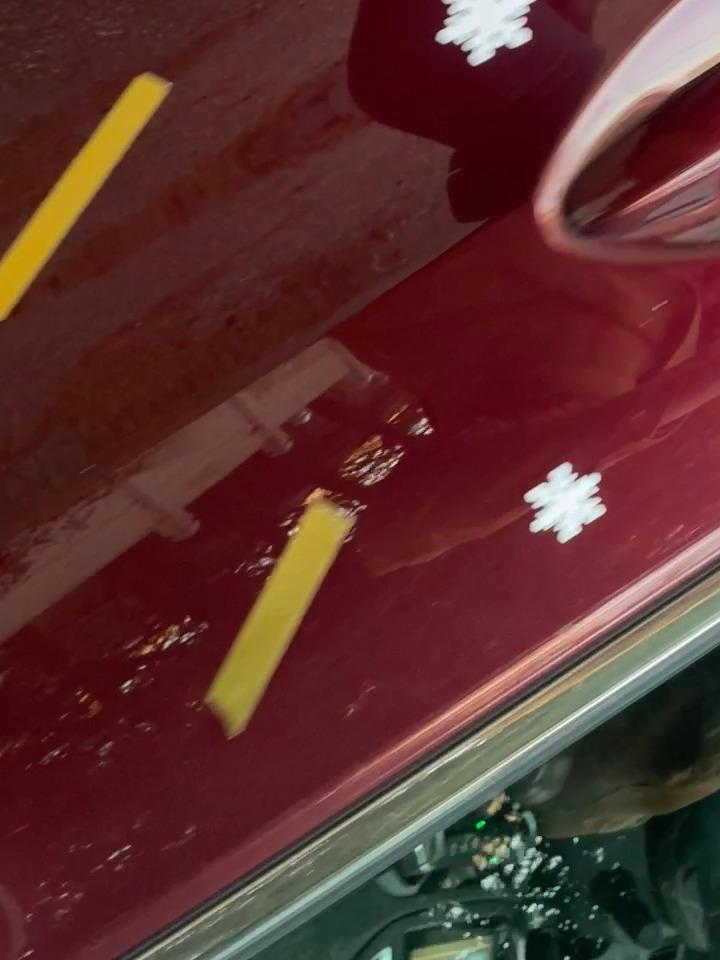dent: (421, 0, 554, 78), (516, 459, 621, 545)
scratch: (191, 484, 387, 745), (0, 58, 181, 315)
